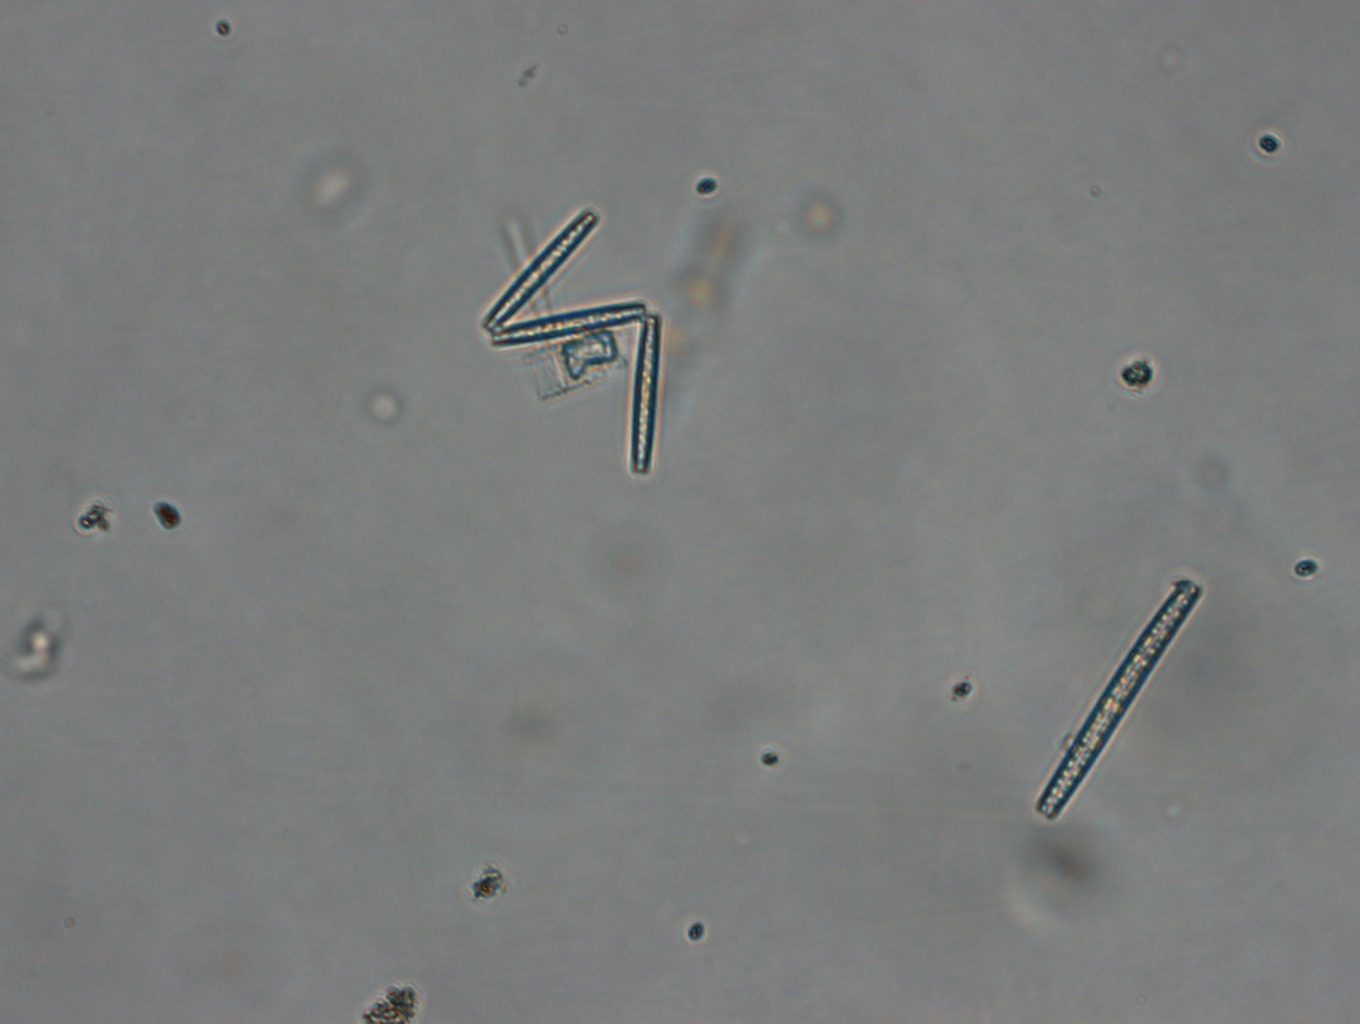thalassionema nitzschioides: (474, 210, 669, 483)
